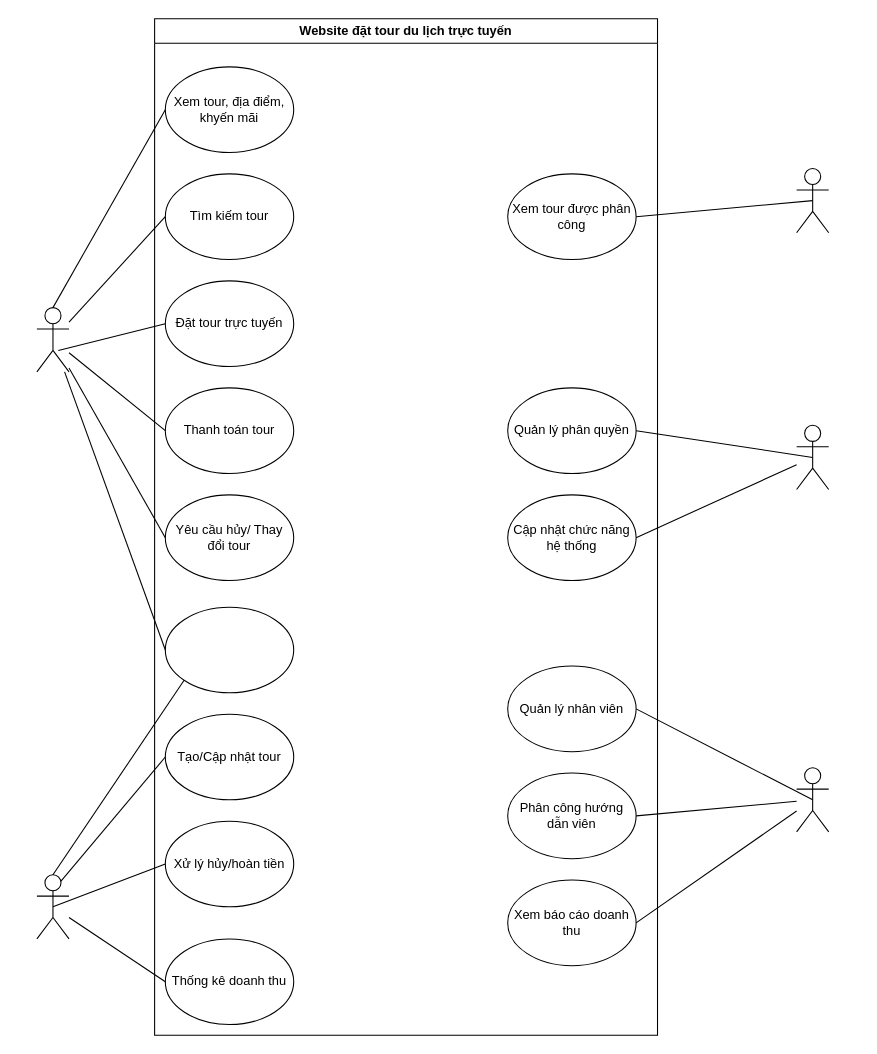
The diagram is 877 pixels wide and 1054 high, and some of its shapes have lost their labels. The shapes that lost their labels are listed below. From the top down, each one's centre as x and y in pixels, then its label:
At point 812,200: "Hướng dẫn viên".
At point 52,339: "Khách hàng".
At point 812,457: "Admin".
At point 229,649: "Quản lý đơn đặt tour".
At point 812,799: "Quản lý".
At point 52,906: "Nhân viên".
